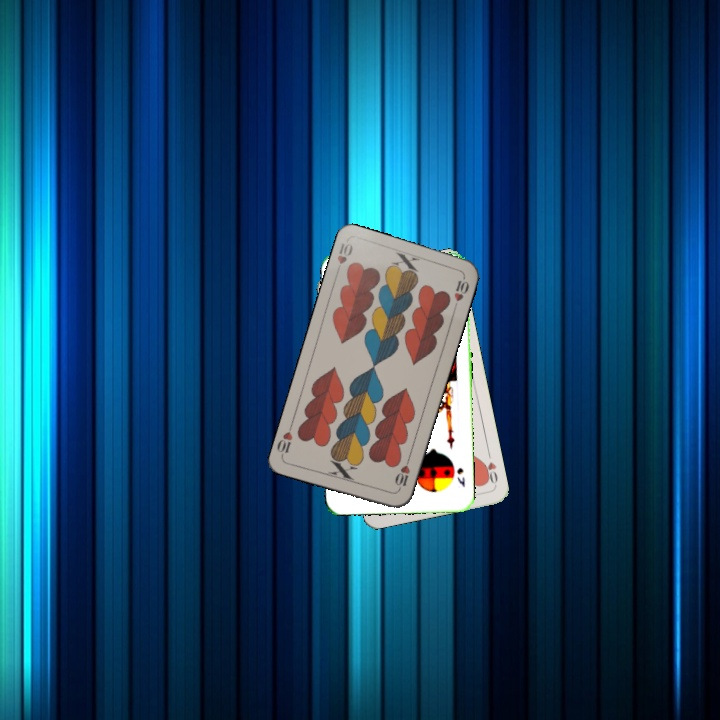H10: (332, 239, 355, 277), (391, 454, 413, 493)
HO: (479, 448, 500, 488)
SK: (453, 464, 467, 489)
